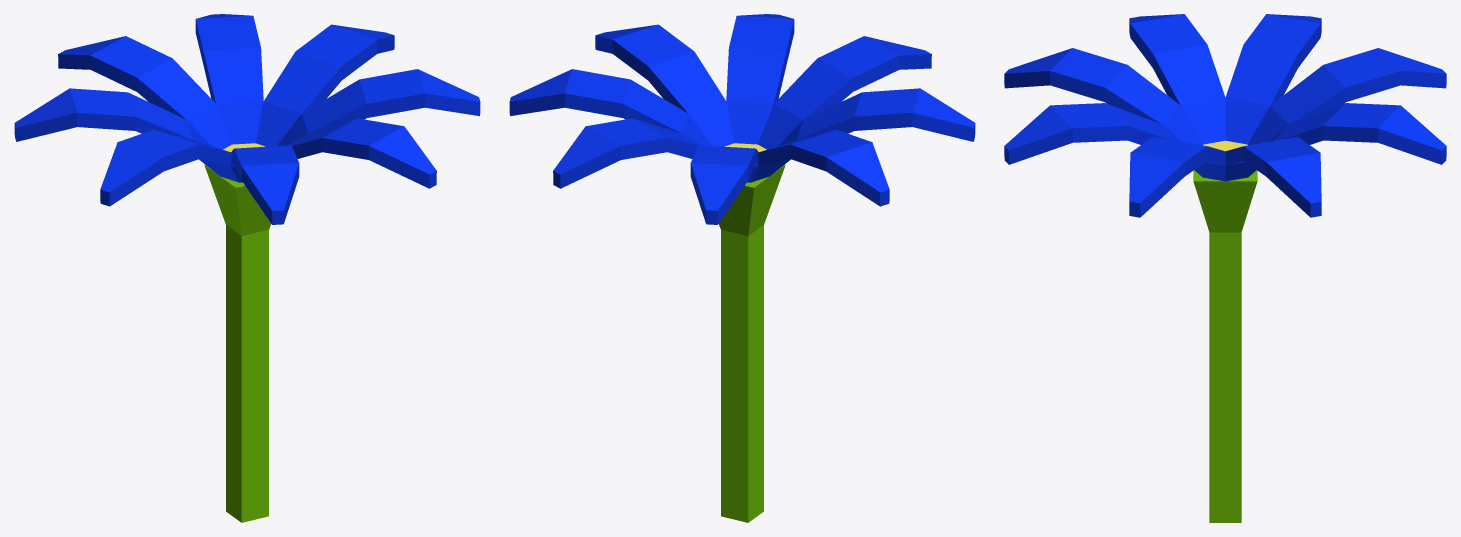
File: Flower_B.fbx
The picture shows the model from 3 angles, left to right: view 1: azimuth 30°, elevation 25°; view 2: azimuth 150°, elevation 25°; view 3: azimuth 270°, elevation 25°; orthographic projection.
Visible parts, largest first — view 1: Flower_01_Bloom; view 2: Flower_01_Bloom; view 3: Flower_01_Bloom.
Boxes of the visible parts, <box> form: Flower_01_Bloom: <box>14,14,480,522</box>; Flower_01_Bloom: <box>509,14,975,522</box>; Flower_01_Bloom: <box>1004,14,1446,522</box>.
Bounding box in the file's own units: 16.58 × 17.7 × 16.58.
1 material, 1 textured.
